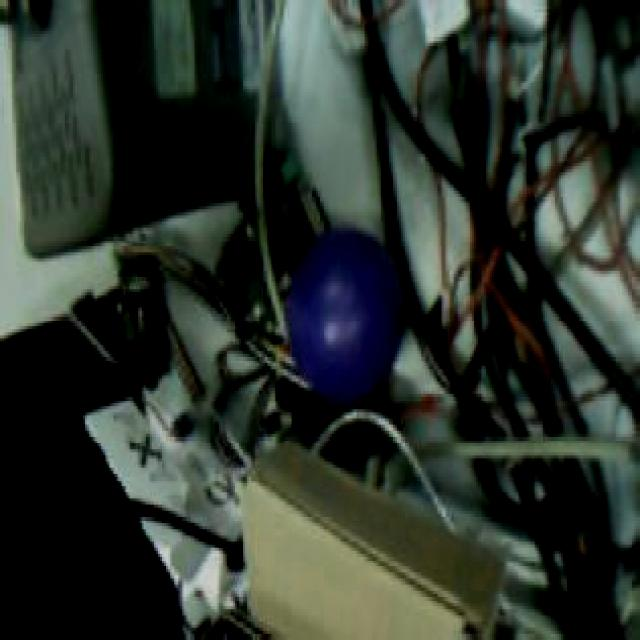BallPurple: (285, 225, 402, 398)
